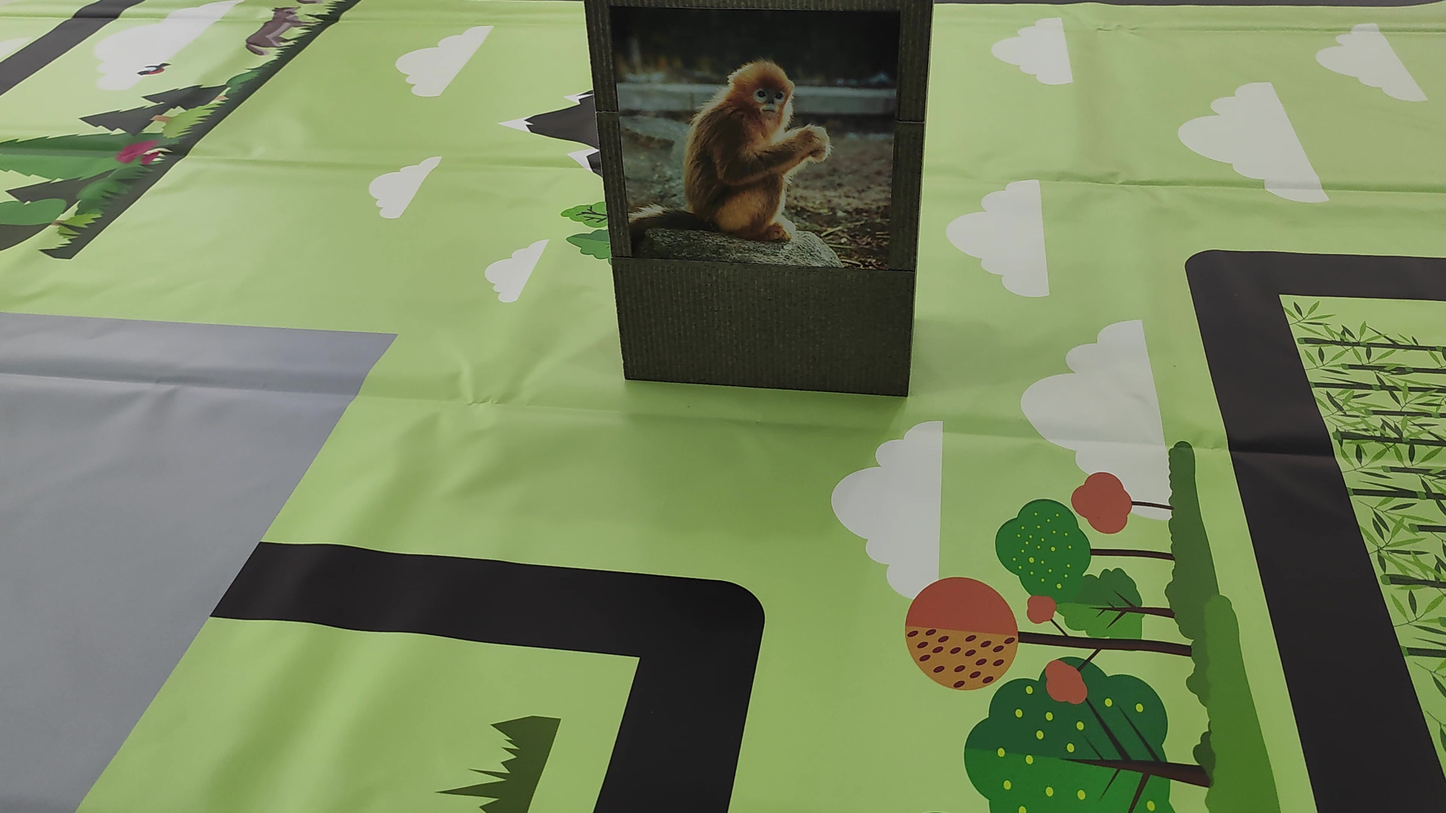monkey: (656, 51, 883, 264)
